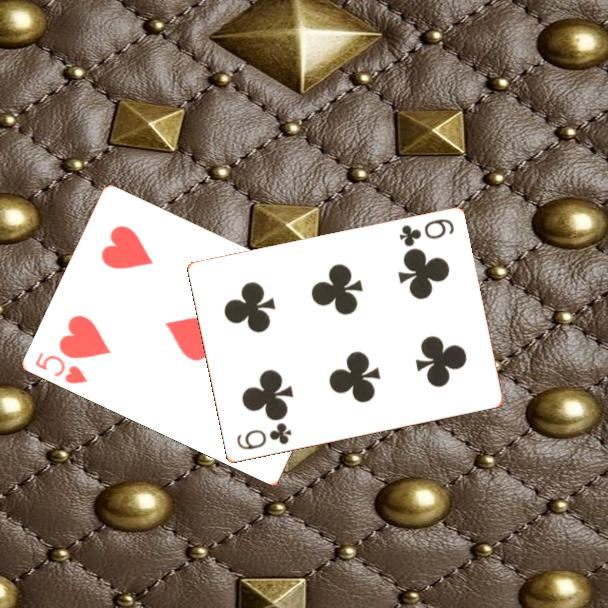c06: (395, 216, 457, 250), (233, 419, 294, 453)
h05: (32, 349, 91, 387)
